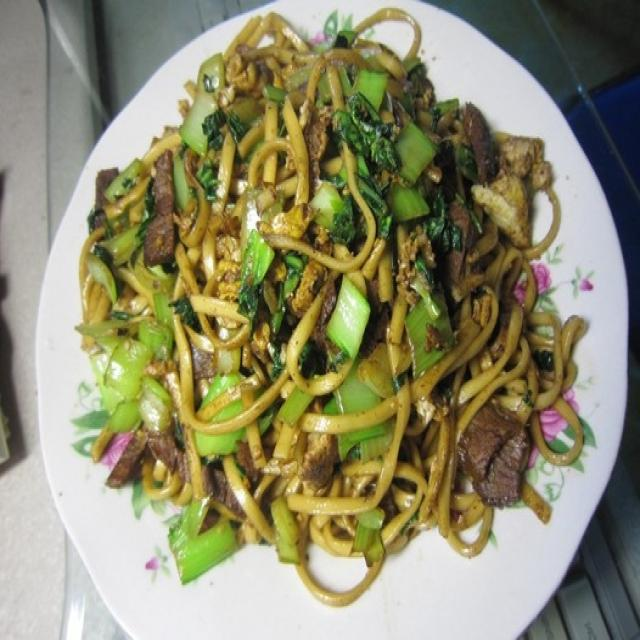面条主食: (39, 9, 617, 620)
